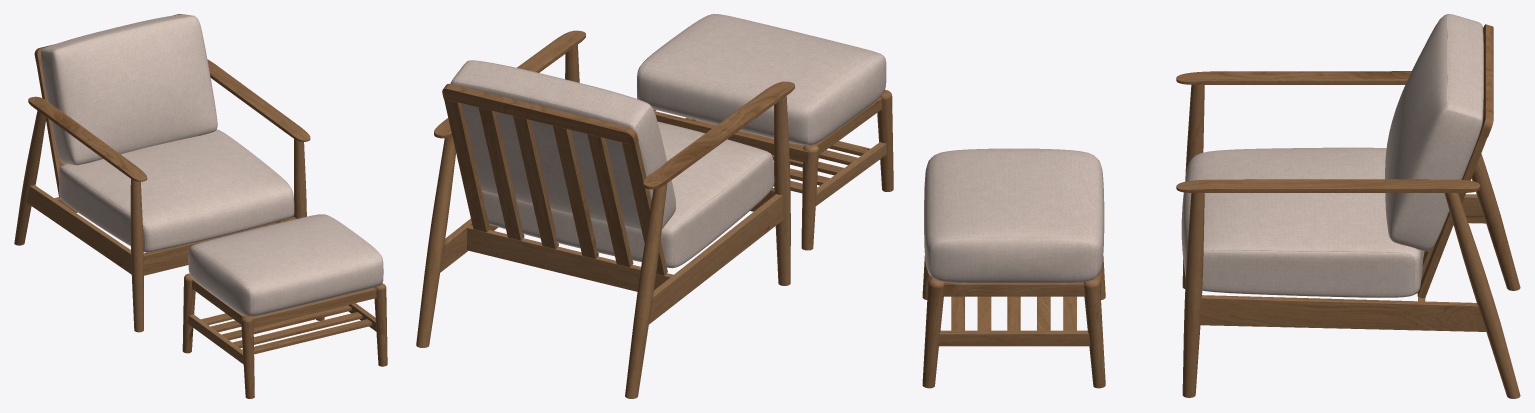
File: chair_67_05.001.fbx
3 renders of one model, left to right at view 1: azimuth 30°, elevation 25°; view 2: azimuth 150°, elevation 25°; view 3: azimuth 270°, elevation 25°, orthographic. The views are drawn at different scales.
Visible parts, largest first — view 1: chair_67_05.001; view 2: chair_67_05.001; view 3: chair_67_05.001.
Boxes of the visible parts, left/top/right/bottom form: chair_67_05.001: left=14, top=14, right=387, bottom=398; chair_67_05.001: left=416, top=14, right=893, bottom=398; chair_67_05.001: left=922, top=14, right=1520, bottom=398.
Size of the model in its own units: 76.92 by 87.2 by 165.
1 material, 1 textured.
